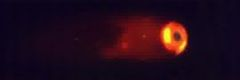keyhole: (170, 30, 185, 45)
